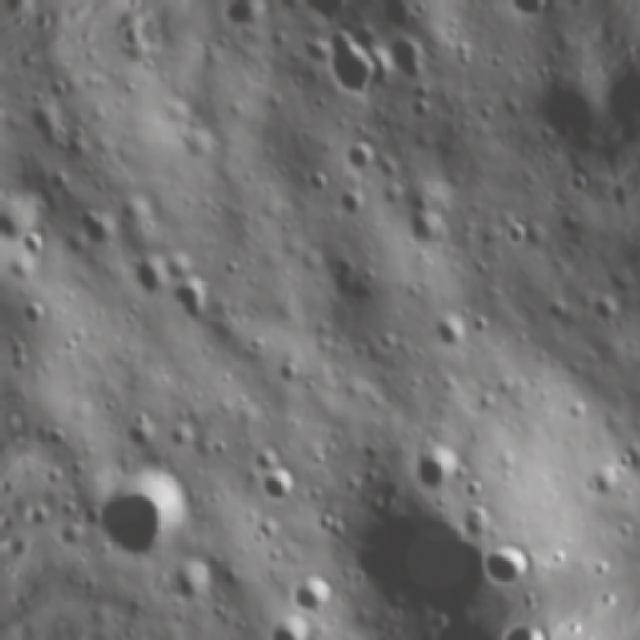crater: (340, 492, 503, 638), (81, 458, 202, 574), (530, 66, 604, 163), (316, 33, 384, 104), (401, 435, 467, 496), (378, 33, 437, 92), (478, 540, 538, 594), (279, 566, 333, 622), (167, 560, 221, 614), (17, 94, 69, 146), (574, 454, 628, 504), (124, 248, 174, 301), (167, 273, 216, 327), (114, 408, 164, 460), (75, 204, 119, 256), (253, 463, 302, 509), (340, 133, 386, 182), (161, 415, 205, 459), (330, 183, 372, 228), (0, 189, 32, 247), (307, 502, 347, 548), (499, 210, 539, 255), (433, 312, 473, 354), (585, 287, 624, 330), (501, 0, 561, 26), (12, 294, 52, 332), (258, 612, 312, 640), (17, 224, 48, 262), (614, 437, 640, 480), (302, 167, 333, 202)
